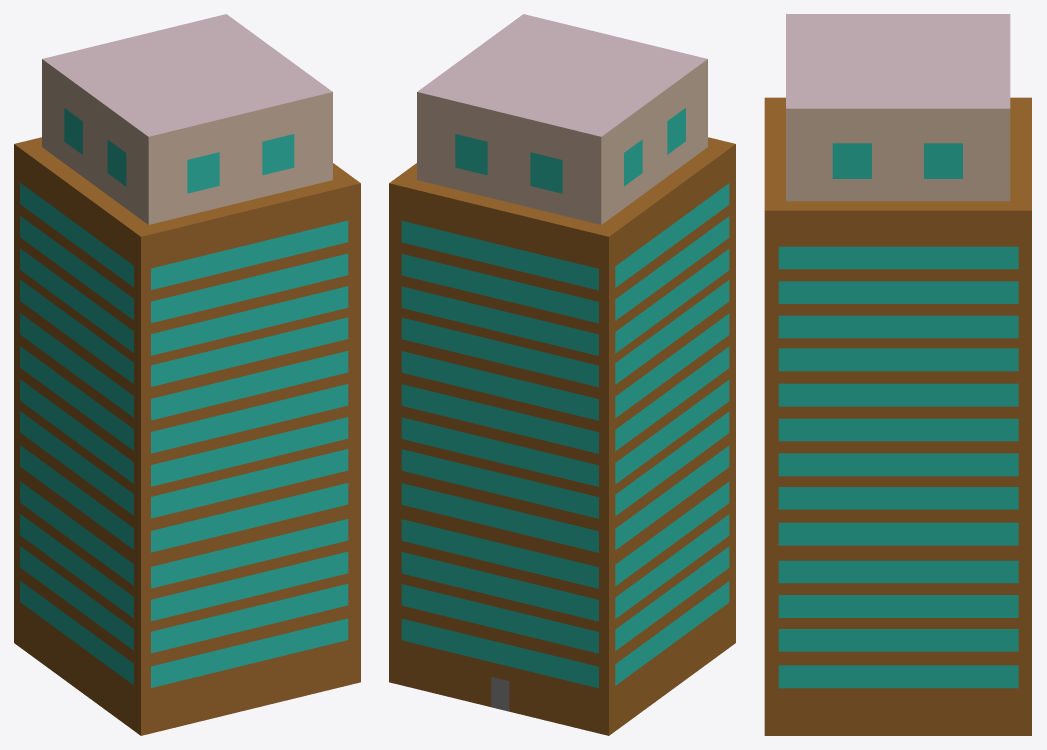
File: Skyscraper3.gltf
The picture shows the model from 3 angles, left to right: view 1: azimuth 30°, elevation 25°; view 2: azimuth 150°, elevation 25°; view 3: azimuth 270°, elevation 25°; orthographic projection. The views are drawn at different scales.
Parts seen in each view (by area): view 1: Skyscraper3; view 2: Skyscraper3; view 3: Skyscraper3.
Boxes of the visible parts, <box> form: Skyscraper3: <box>14,14,360,735</box>; Skyscraper3: <box>389,14,735,735</box>; Skyscraper3: <box>764,14,1031,735</box>.
Bounding box in the file's own units: 2.5 × 6.38 × 2.51.
